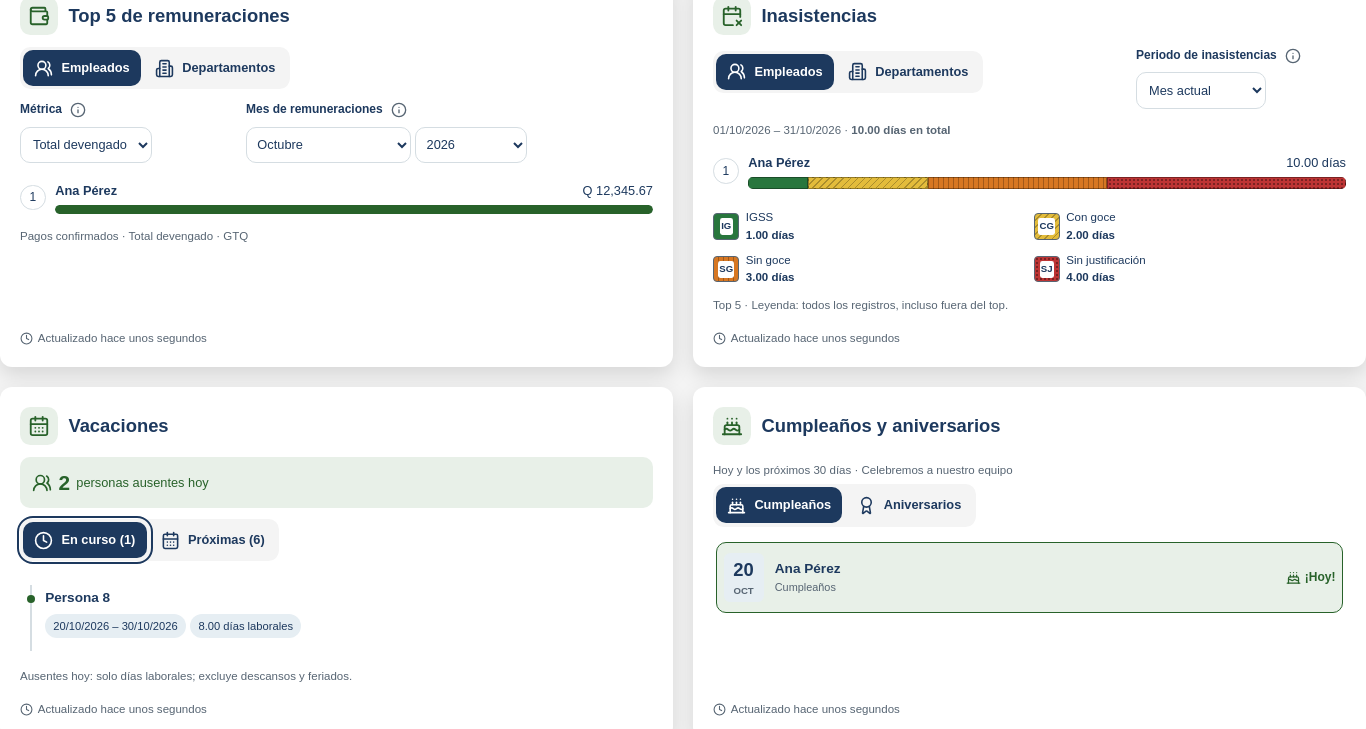
Test: R2-9: primera vista de RRHH › cambia vacaciones por teclado, plazo y página, conservando fechas y días laborales
Check: the text "personas ausentes hoy" is shown, box left=76, top=473, right=209, bottom=492
Press ArrowRight in the tab "En curso (1)", box left=23, top=522, right=146, bottom=558
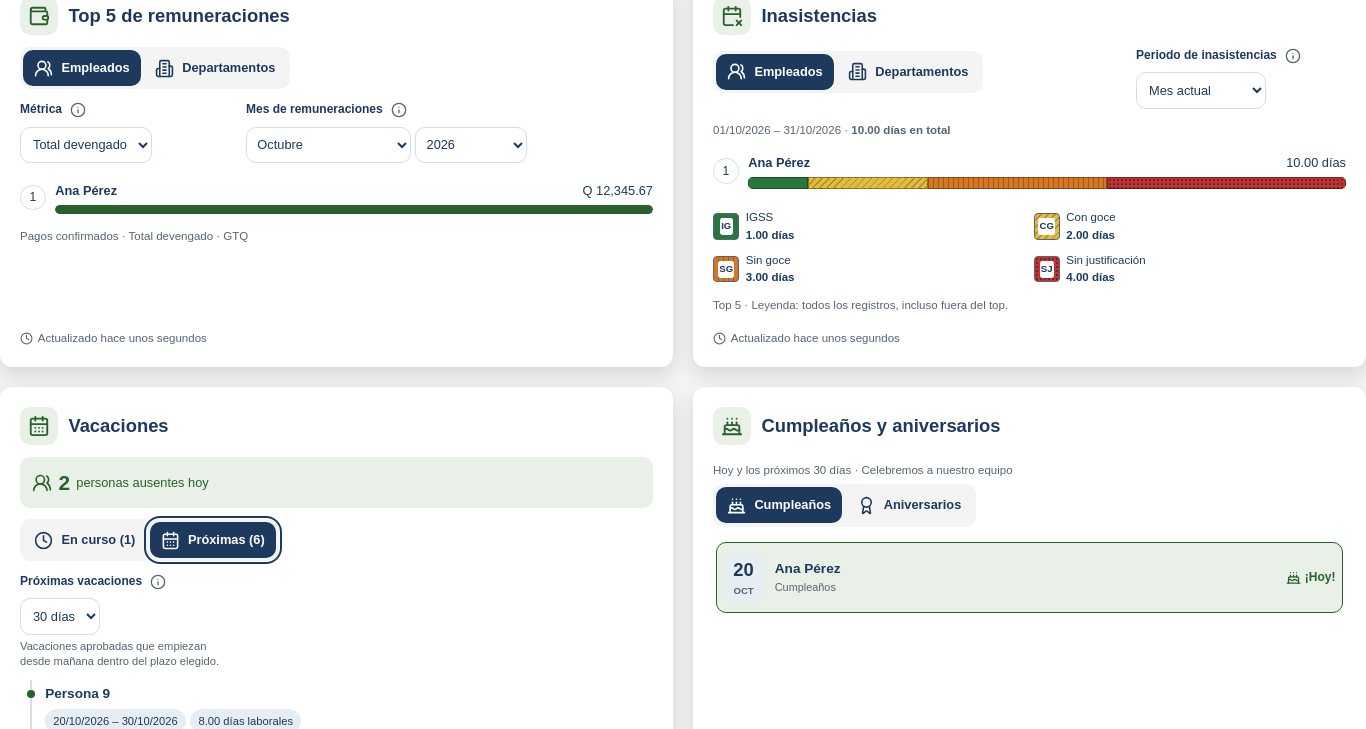
Select "60 días" in the dropdown labelled "Próximas vacaciones" at point(60, 617), box left=20, top=598, right=100, bottom=635
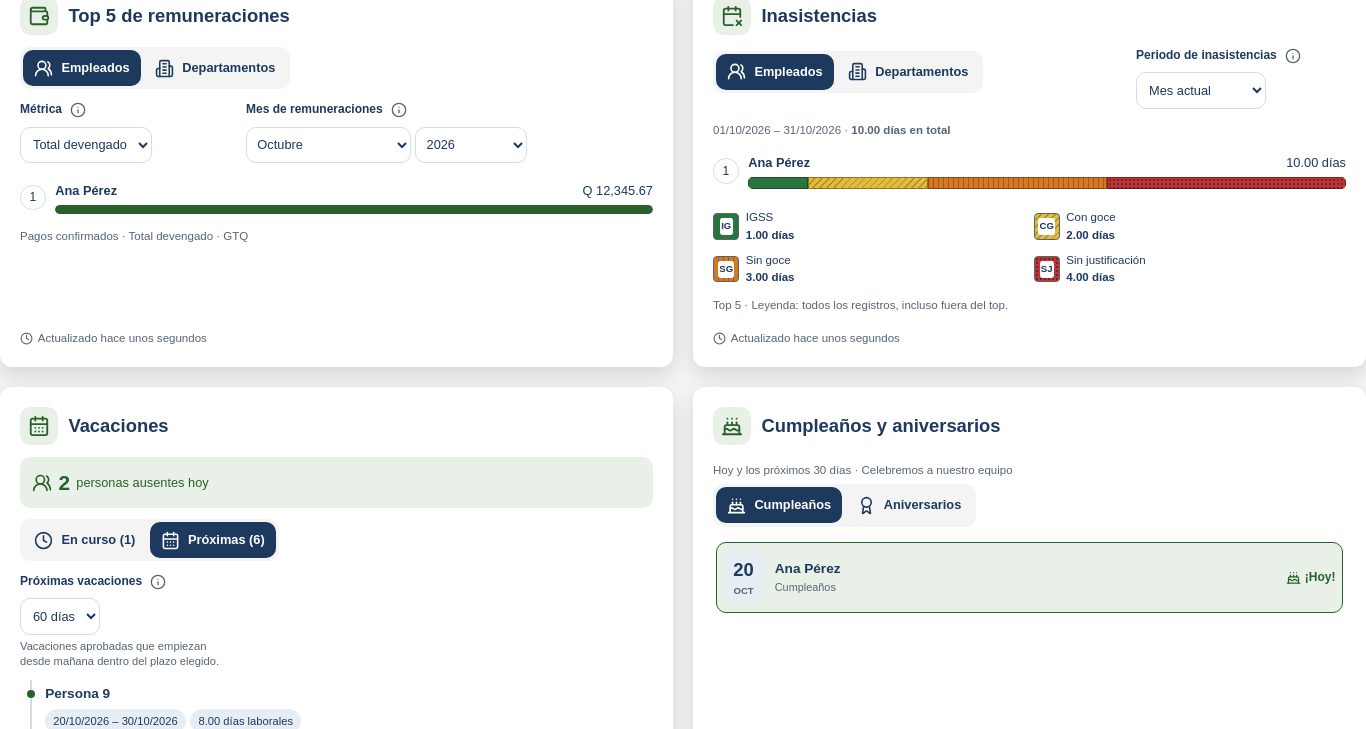
Check: the dropdown labelled "Próximas vacaciones" is shown
Select "90 días" in the dropdown labelled "Próximas vacaciones" at point(60, 617), box left=20, top=598, right=100, bottom=635
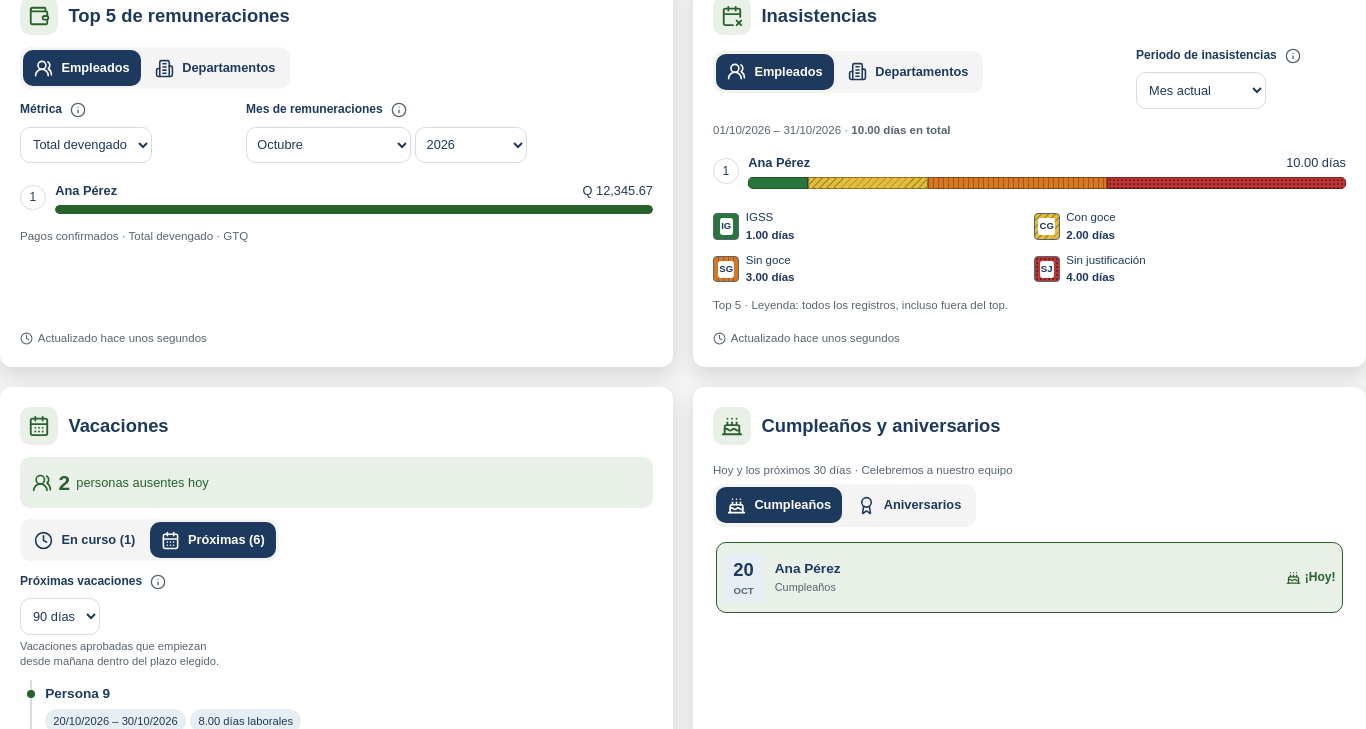
Check: the dropdown labelled "Próximas vacaciones" is shown
Select "30 días" in the dropdown labelled "Próximas vacaciones" at point(60, 617), box left=20, top=598, right=100, bottom=635
(page scrolled)
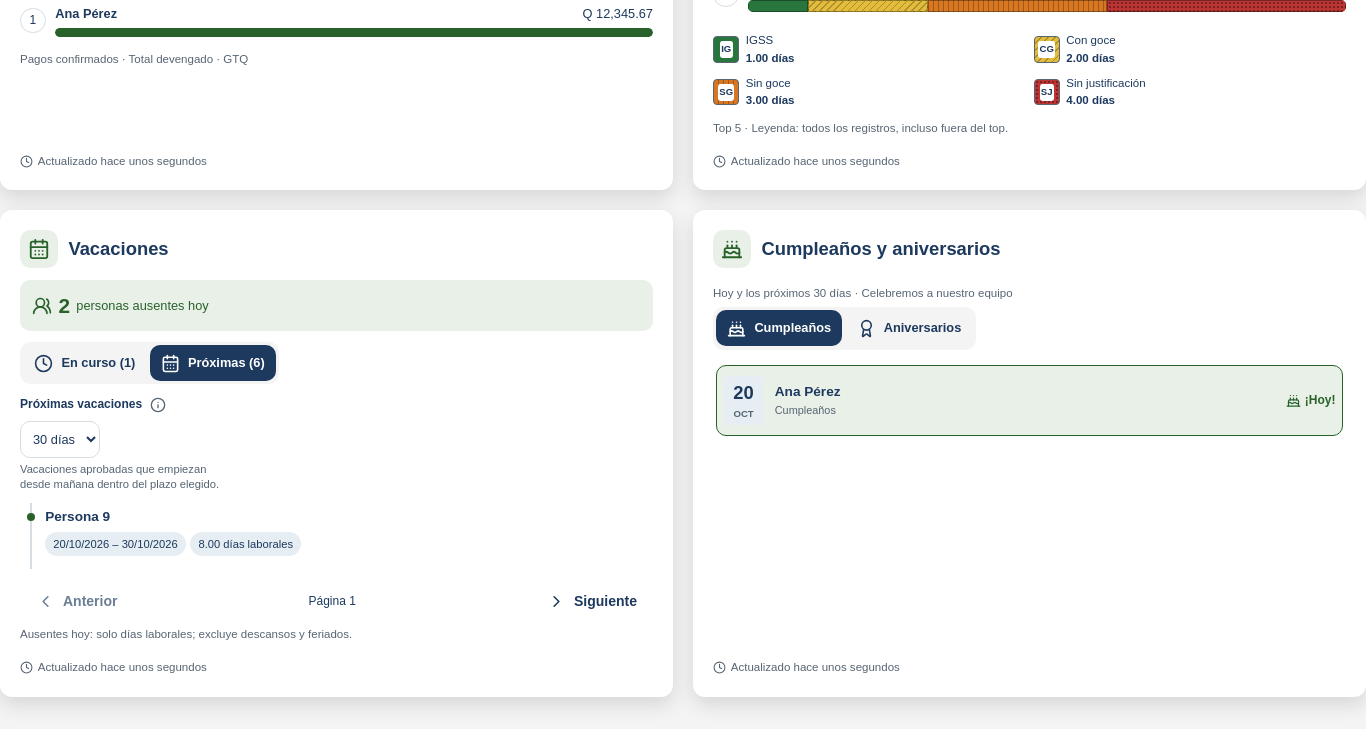
Check: the dropdown labelled "Próximas vacaciones" is shown, box left=20, top=421, right=100, bottom=458
Click the button "Siguiente" at point(592, 601), box left=531, top=581, right=653, bottom=621
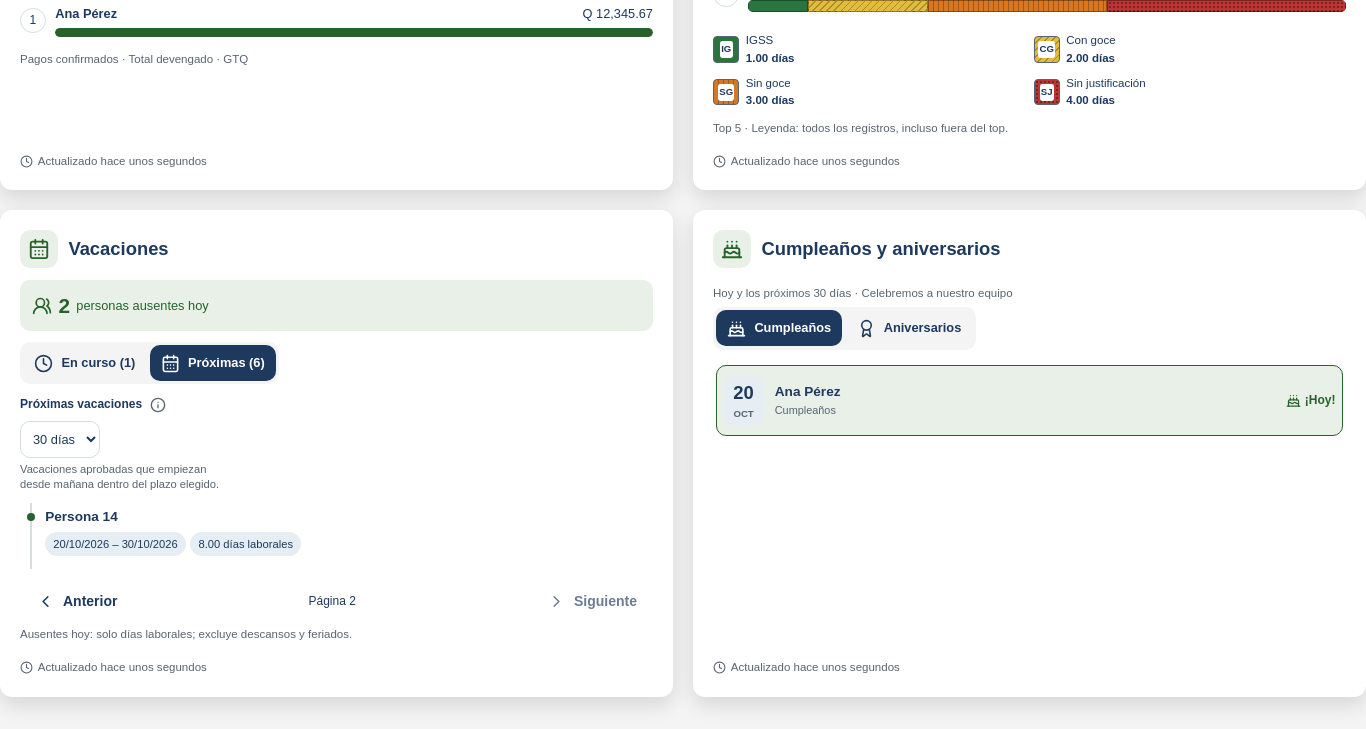
Check: the text "Persona 14" is shown, box left=45, top=508, right=118, bottom=524
Check: the text "Página 2" is shown, box left=308, top=592, right=356, bottom=610
Click the tab "En curso (1)" at point(85, 363), box left=23, top=345, right=146, bottom=381
(page scrolled)
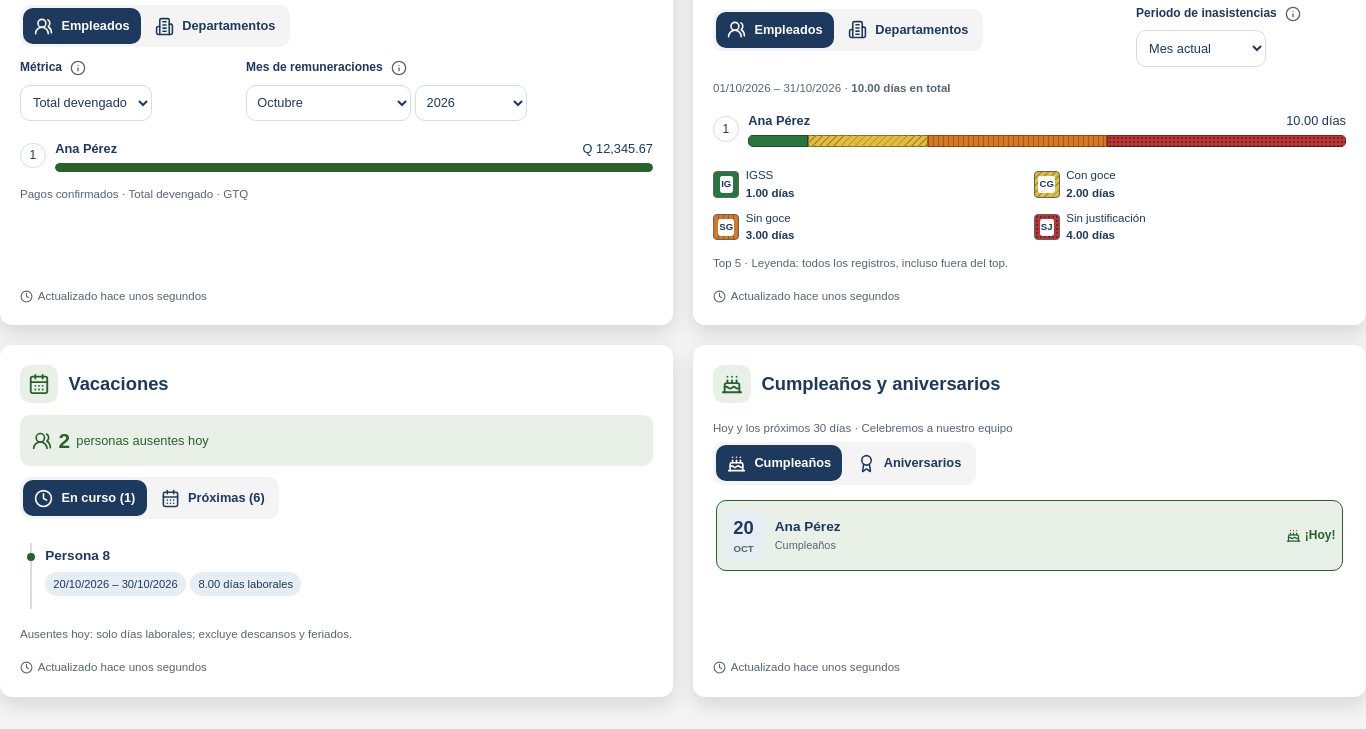
Check: the text "Persona 8" is shown, box left=45, top=548, right=110, bottom=563
Check: the text "Página 2" is gone
